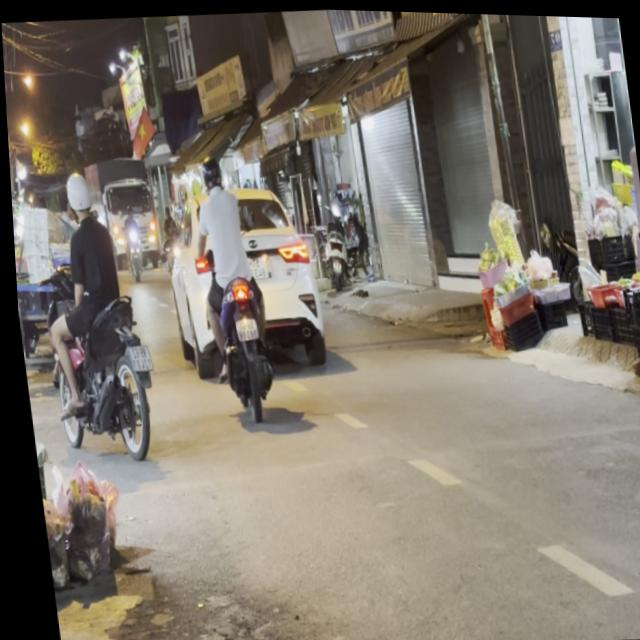helmet: (60, 167, 92, 219), (198, 152, 222, 190)
licenseplate: (22, 161, 158, 463), (181, 147, 277, 417)
nohelmet: (121, 342, 146, 369), (231, 314, 253, 337)
